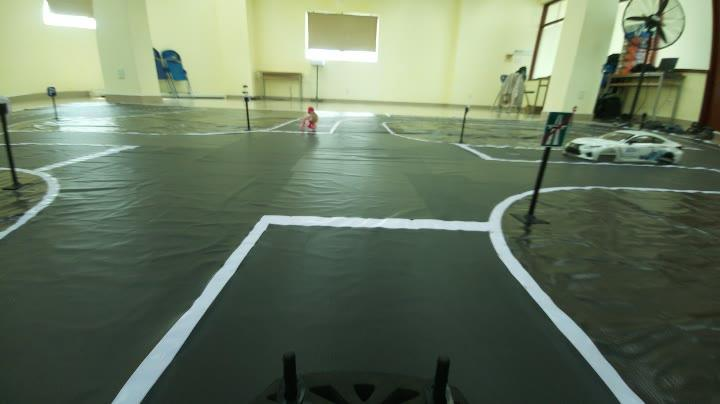highway_exit: (537, 106, 571, 146)
